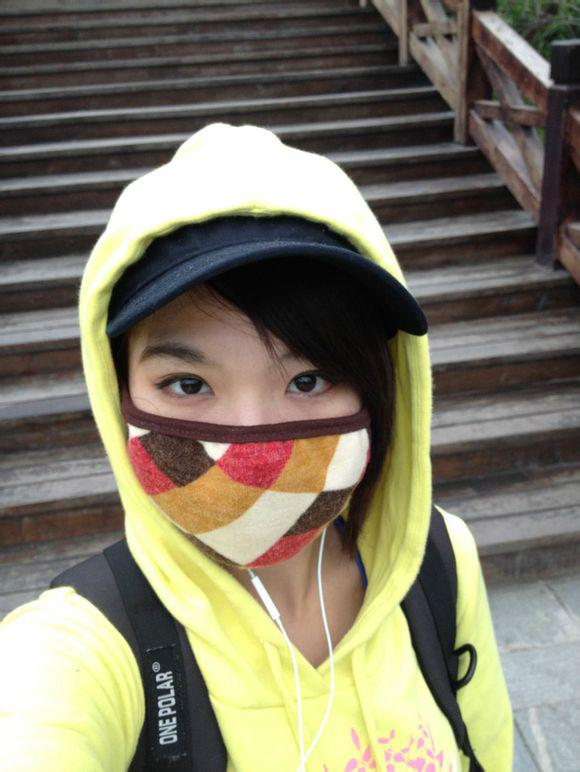OK: (139, 332, 371, 564)
